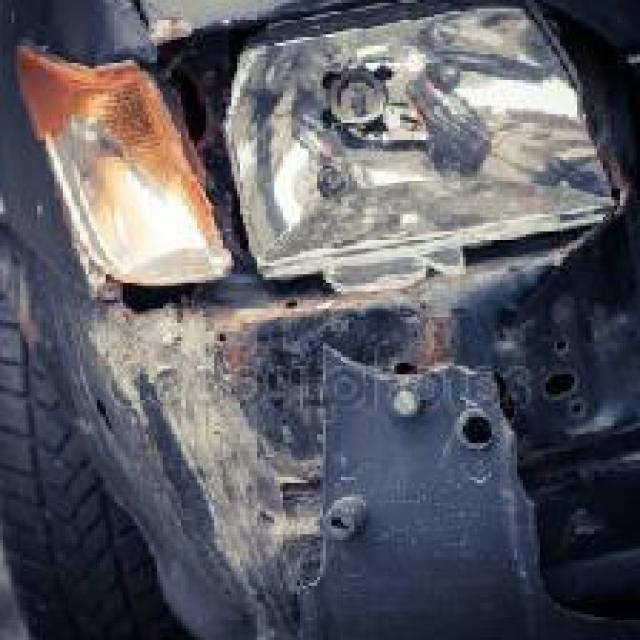damaged: (57, 6, 629, 623)
